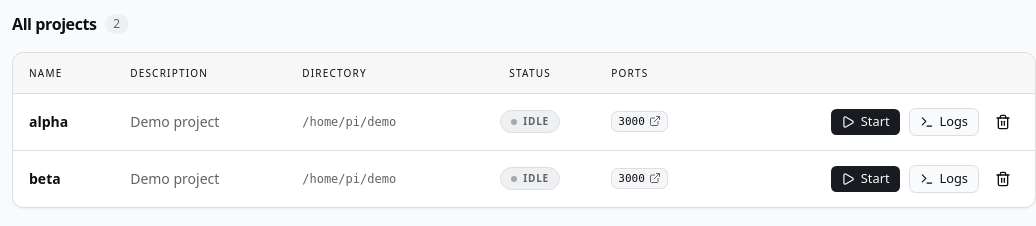
Test: ProjectsView actions › optimistically shows BOOTING and disables only the pending row
This screenshot has width=1036, height=226.
Click the button with aria-label "Start alpha" at x=865, y=122, box [830,108,900,136]
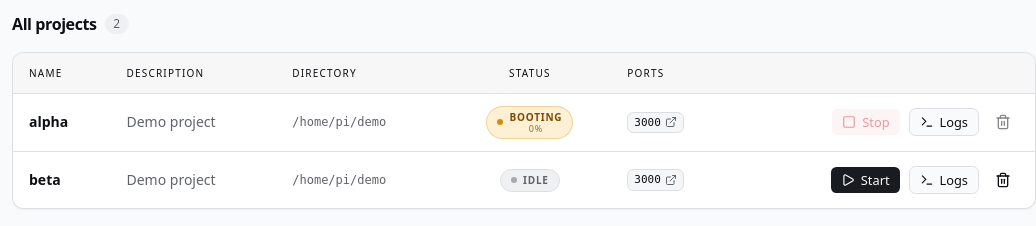
expect the button with aria-label "Start beta" is enabled: met, box [830,166,900,194]
expect the text "BOOTING" is shown: met, box [509,110,562,123]
expect the button with aria-label "Stop alpha" is disabled: met, box [831,108,901,136]
